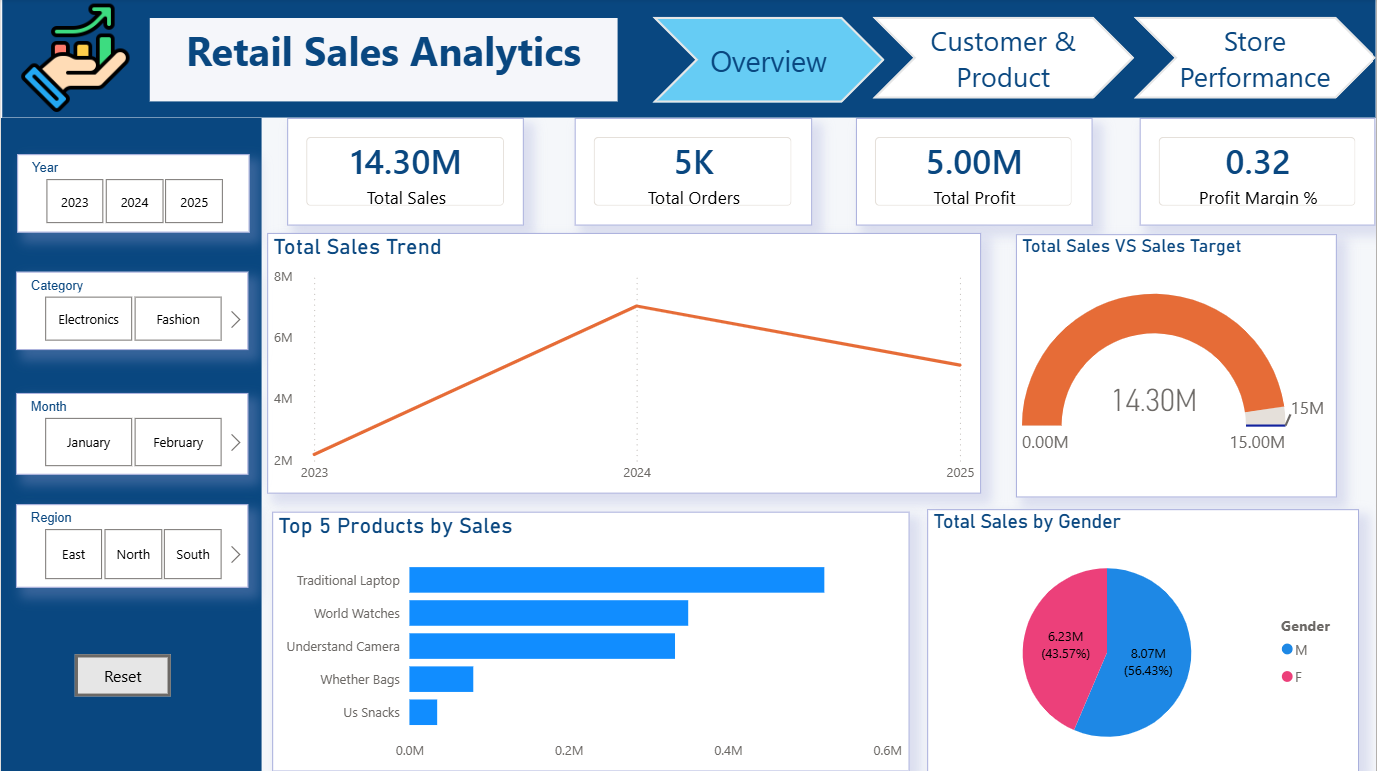

The dashboard page shown, as its layout file describes it:
{"tool":"powerbi","page":{"name":"Overview","canvas":[1280,720],"ordinal":0},"visuals":[{"type":"group","id":"g1","title":"overview","box":[248.1,111.2,1031.6,609.1],"z":0},{"type":"cardVisual","fields":{"Data":["retail_sales_clean.Total Profit"]},"box":[796,111.2,219.8,100],"z":0,"group":"g1"},{"type":"shape","box":[0,111.2,242.5,608.8],"z":500,"group":"g2"},{"type":"group","id":"g2","title":"all","box":[0,0,1280,720],"z":1000},{"type":"shape","box":[1.2,0,1278.8,111.2],"z":1000,"group":"g2"},{"type":"cardVisual","fields":{"Data":["retail_sales_clean.Total Orders"]},"box":[534.3,111.2,220.9,100],"z":1000,"group":"g1"},{"type":"cardVisual","fields":{"Data":["retail_sales_clean.Total Sales"]},"box":[267,111.6,220,100],"z":2000,"group":"g1"},{"type":"slicer","fields":{"Values":["retail_sales_clean.Year"]},"box":[15.3,145.8,216.2,72.5],"z":2000,"group":"g2"},{"type":"actionButton","box":[69,610.6,89.3,39.6],"z":2000},{"type":"cardVisual","fields":{"Data":["retail_sales_clean.Profit Margin %"]},"box":[1059.9,111.2,219.8,100],"z":3000,"group":"g1"},{"type":"slicer","fields":{"Values":["retail_sales_clean.Date.Variation.Date Hierarchy.Month"]},"box":[14,367,216.2,76.2],"z":3000,"group":"g2"},{"type":"lineChart","title":"Total Sales Trend","fields":{"Y":["retail_sales_clean.Total Sales"],"Category":["retail_sales_clean.YearMonth.Variation.Date Hierarchy.Year","retail_sales_clean.YearMonth.Variation.Date Hierarchy.Month"]},"box":[248.1,218.4,663.8,242.5],"z":4000,"group":"g1"},{"type":"slicer","fields":{"Values":["retail_sales_clean.Category"]},"box":[14,254.5,216.2,72.5],"z":4000,"group":"g2"},{"type":"slicer","fields":{"Values":["retail_sales_clean.Region"]},"box":[14,470.8,216.2,77.5],"z":5000,"group":"g2"},{"type":"textbox","box":[138.8,18.8,435,77.5],"z":6000,"group":"g2"},{"type":"gauge","title":"Total Sales VS Sales Target","fields":{"Y":["retail_sales_clean.Total Sales"],"TargetValue":["retail_sales_clean.Sales Target"]},"box":[945,219,298.8,245],"z":6000,"group":"g1"},{"type":"image","box":[0,0,138.8,111.2],"z":7000,"group":"g2"},{"type":"clusteredBarChart","title":"Top 5 Products by Sales","fields":{"Category":["retail_sales_clean.ProductName"],"Y":["retail_sales_clean.Total Sales"]},"box":[252.5,477.3,592.5,242],"z":7000,"group":"g1"},{"type":"actionButton","title":"Store Performance","box":[1053.8,17.5,226.2,76.2],"z":7250,"group":"g2"},{"type":"actionButton","title":"Customer & Product","box":[810,17.5,243.8,76.2],"z":7500,"group":"g2"},{"type":"pieChart","fields":{"Y":["retail_sales_clean.Total Sales"],"Category":["retail_sales_clean.Gender"]},"box":[862.5,475.3,401.2,245],"z":8000,"group":"g1"},{"type":"actionButton","title":"Overview","box":[606.2,17.5,216.2,80],"z":8500,"group":"g2"}]}

Visuals, with their boxes in screenshot pixels (x1, y1, x2, y2), scaled from the page's 1280x720 canvas onto the 1377x771 screenshot:
"overview" group: left=267, top=119, right=1376, bottom=770
cardVisual - retail_sales_clean.Total Profit: left=856, top=119, right=1093, bottom=226
shape: left=0, top=119, right=261, bottom=770
"all" group: left=0, top=0, right=1376, bottom=770
shape: left=1, top=0, right=1376, bottom=119
cardVisual - retail_sales_clean.Total Orders: left=575, top=119, right=812, bottom=226
cardVisual - retail_sales_clean.Total Sales: left=287, top=120, right=524, bottom=227
slicer - retail_sales_clean.Year: left=16, top=156, right=249, bottom=234
actionButton: left=74, top=654, right=170, bottom=696
cardVisual - retail_sales_clean.Profit Margin %: left=1140, top=119, right=1376, bottom=226
slicer - retail_sales_clean.Date.Variation.Date Hierarchy.Month: left=15, top=393, right=248, bottom=475
"Total Sales Trend" lineChart: left=267, top=234, right=981, bottom=494
slicer - retail_sales_clean.Category: left=15, top=273, right=248, bottom=350
slicer - retail_sales_clean.Region: left=15, top=504, right=248, bottom=587
textbox: left=149, top=20, right=617, bottom=103
"Total Sales VS Sales Target" gauge: left=1017, top=235, right=1338, bottom=497
image: left=0, top=0, right=149, bottom=119
"Top 5 Products by Sales" clusteredBarChart: left=272, top=511, right=909, bottom=770
"Store Performance" actionButton: left=1134, top=19, right=1376, bottom=100
"Customer & Product" actionButton: left=871, top=19, right=1134, bottom=100
pieChart - retail_sales_clean.Total Sales x retail_sales_clean.Gender: left=928, top=509, right=1359, bottom=770
"Overview" actionButton: left=652, top=19, right=885, bottom=104
